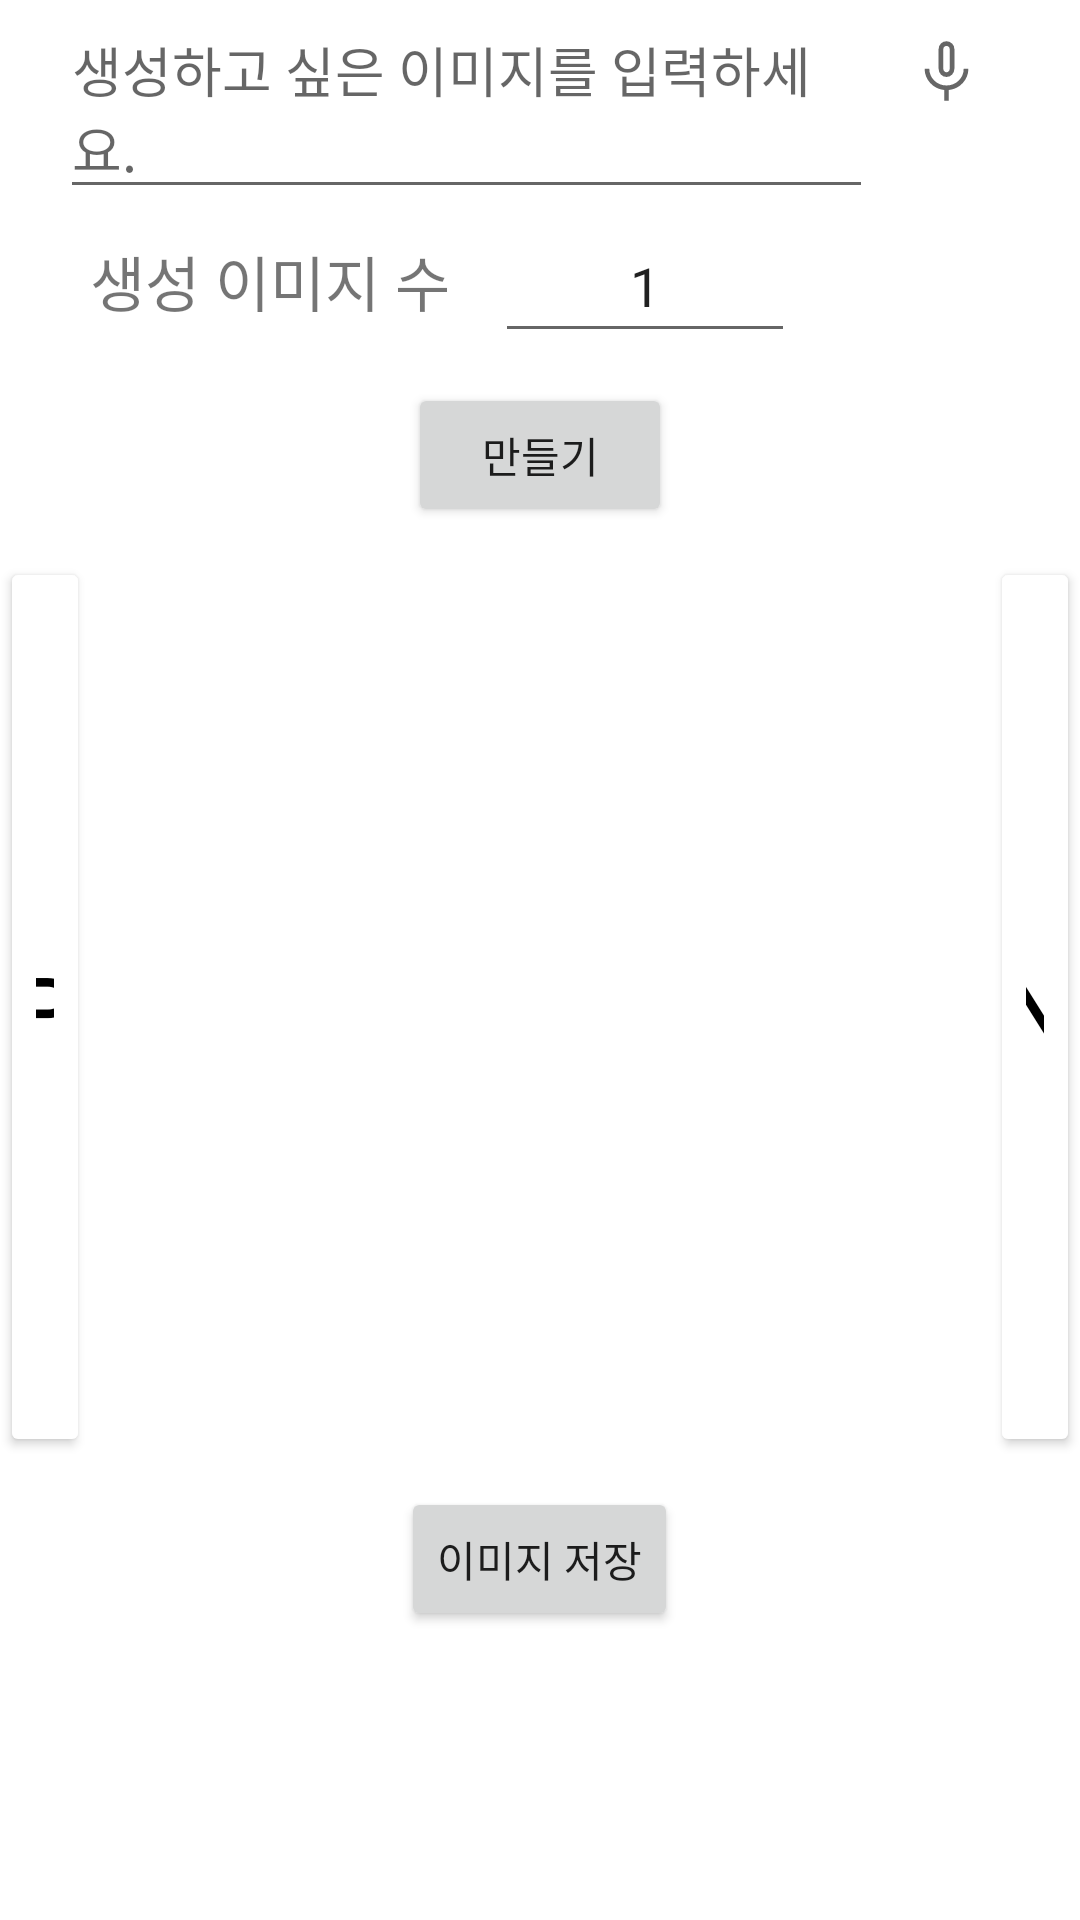

Icons on this 1080 × 1920 Android screen, each with the point to tap as [x,y]:
mic: [946,71]
